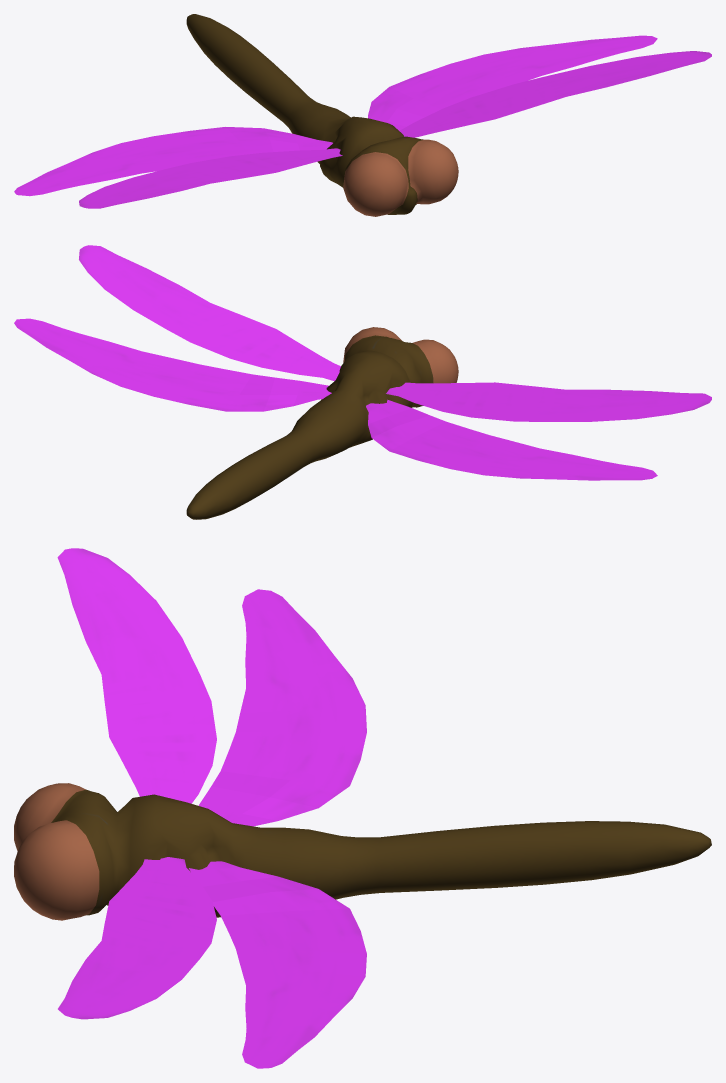
Rendered from DragonflyGeo_v002.fbx.
The picture shows the model from 3 angles, top to bottom: view 1: azimuth 30°, elevation 25°; view 2: azimuth 150°, elevation 25°; view 3: azimuth 270°, elevation 25°; orthographic projection. The views are drawn at different scales.
Visible parts, largest first — view 1: Wings, Body; view 2: Wings, Body; view 3: Wings, Body.
Part boxes in pixels (x1,y1,x2,y2): Wings: (14, 35, 711, 208); Body: (186, 14, 458, 216); Wings: (14, 245, 711, 480); Body: (186, 327, 458, 519); Wings: (57, 548, 366, 1068); Body: (14, 783, 711, 920).
Size of the model in its own units: 3285 by 408 by 2021.
